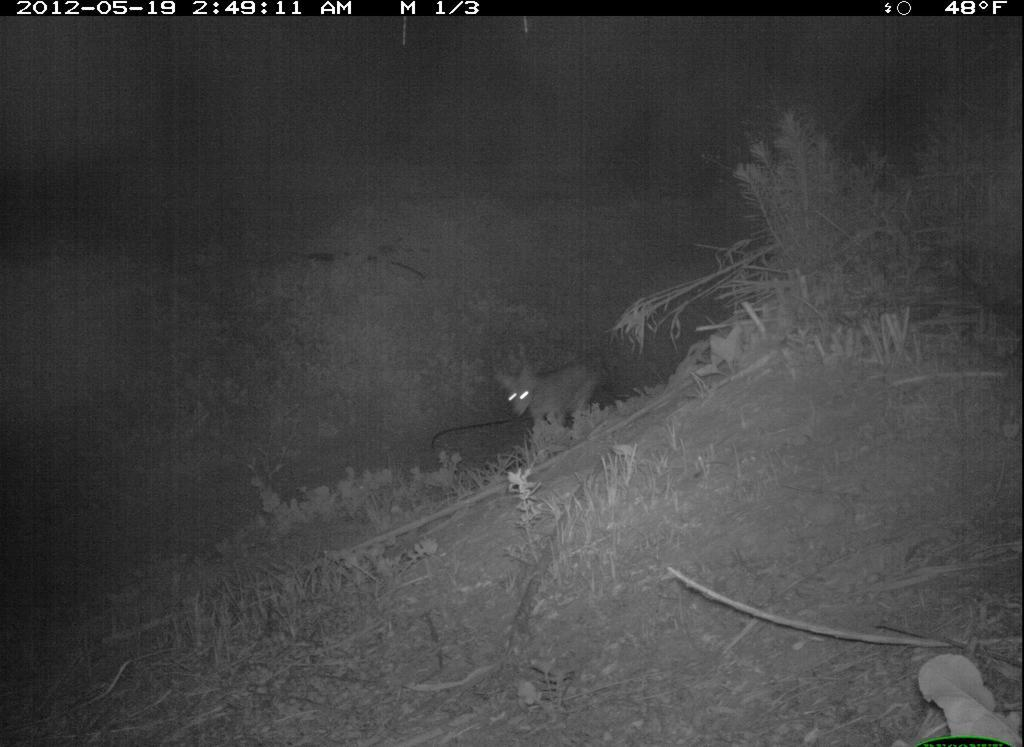coyote: (483, 342, 617, 450)
